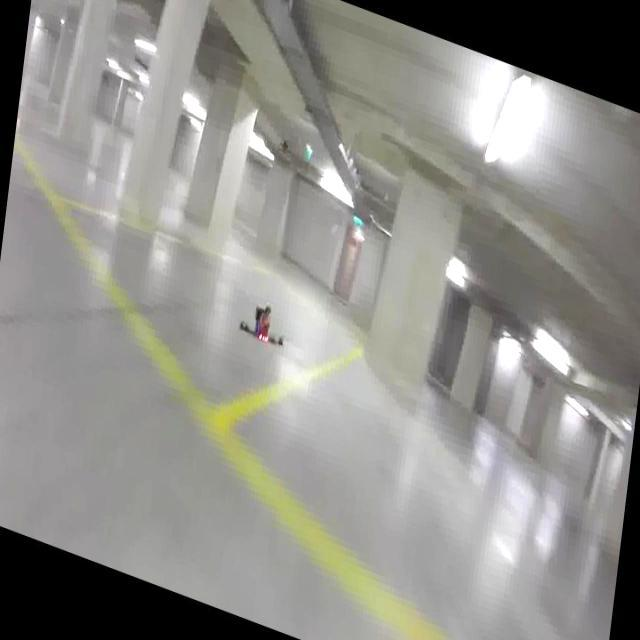drone: (231, 286, 293, 363)
